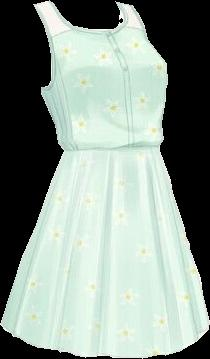Bodice: (33, 1, 167, 152)
Hemline: (0, 322, 209, 358)
Neckline: (50, 0, 122, 36), (48, 26, 73, 41), (119, 23, 143, 30)
Skirt: (0, 147, 209, 357)
Waistline: (62, 143, 160, 152)
